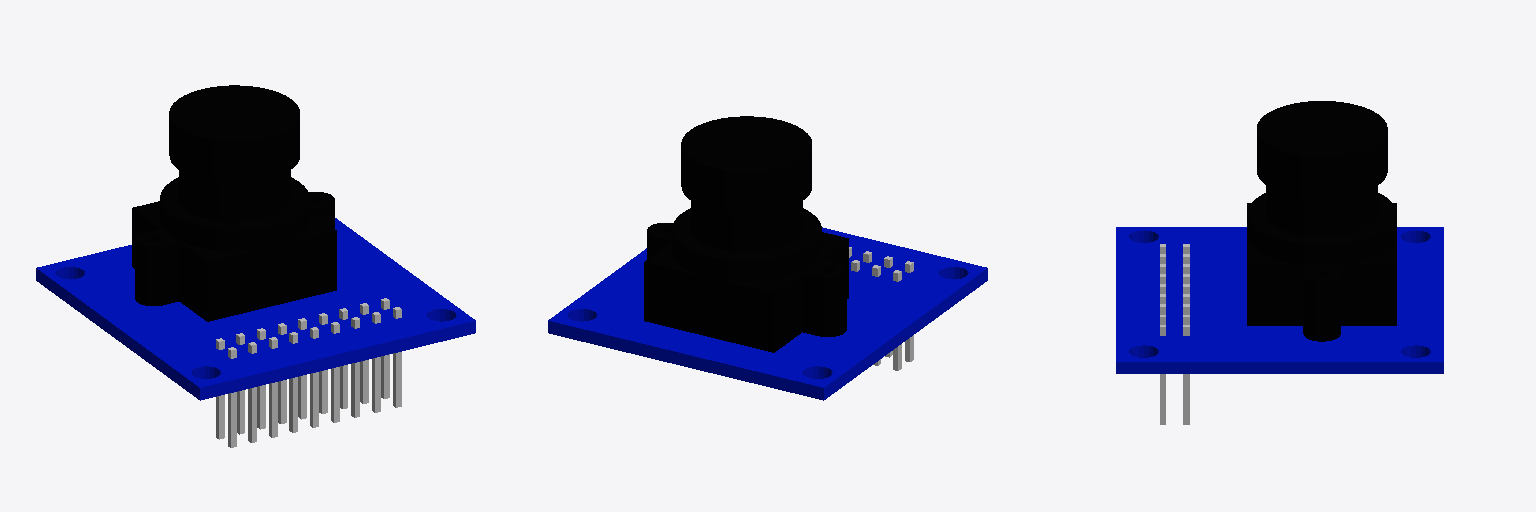
The model's file is cameraOV7670.obj.
The picture shows the model from 3 angles: view 1: azimuth 30°, elevation 25°; view 2: azimuth 150°, elevation 25°; view 3: azimuth 270°, elevation 25°; orthographic projection.
Visible parts, largest first — view 1: Camera_OV7670_module_v4; view 2: Camera_OV7670_module_v4; view 3: Camera_OV7670_module_v4.
Boxes of the visible parts, x1,y1,x2,y2 form: Camera_OV7670_module_v4: [36, 85, 475, 447]; Camera_OV7670_module_v4: [548, 116, 987, 400]; Camera_OV7670_module_v4: [1116, 101, 1443, 424].
Size of the model in its own units: 0.34 by 0.3 by 0.35.